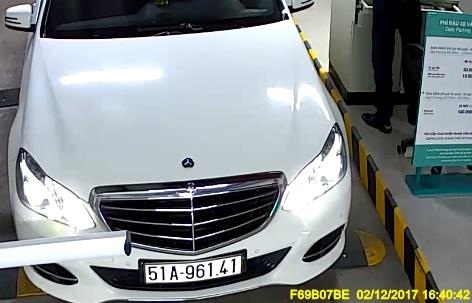plate: (130, 249, 254, 283)
